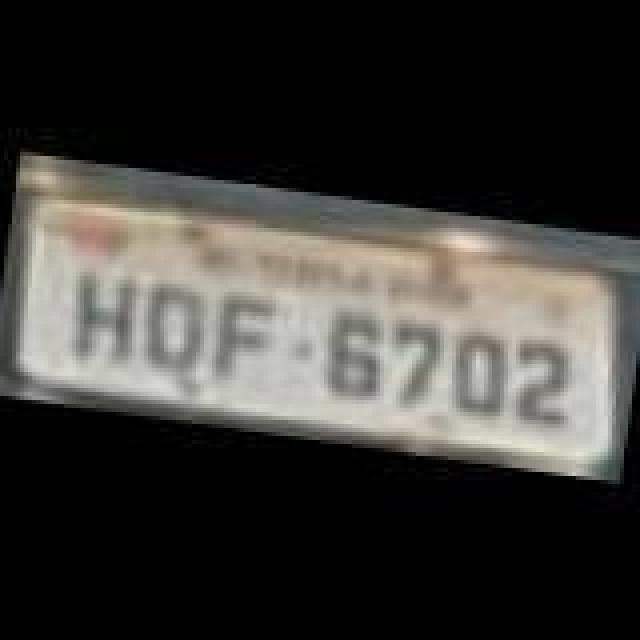2: (504, 334, 584, 434)
6: (324, 306, 396, 406)
7: (382, 314, 450, 414)
F: (208, 292, 288, 396)
H: (66, 268, 142, 372)
O: (136, 278, 216, 378), (444, 332, 524, 428)
